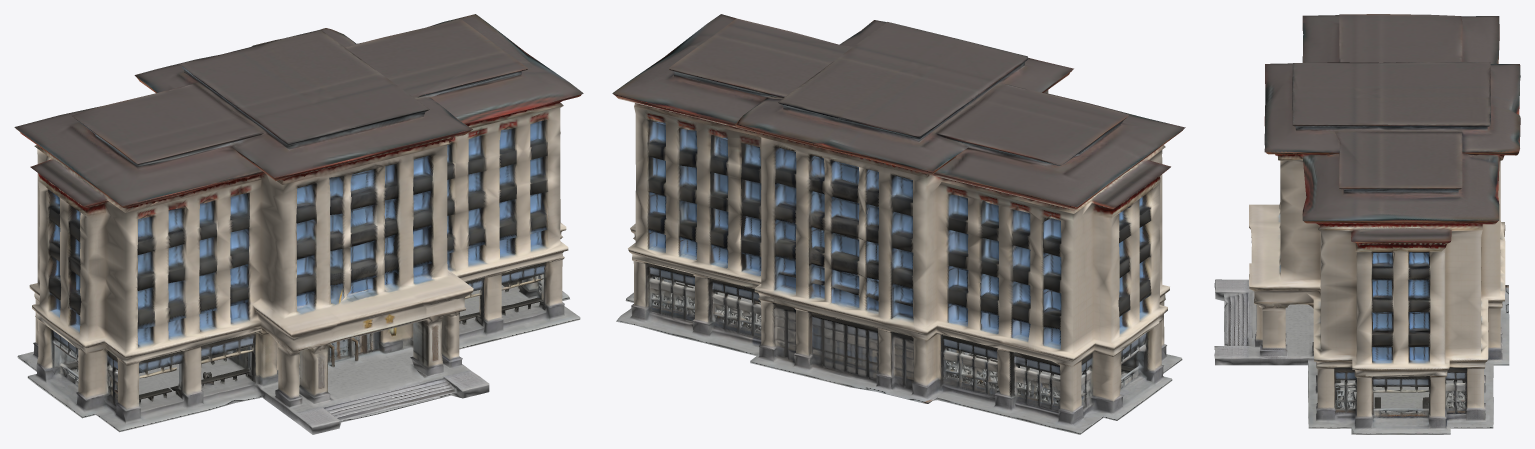
Rendered from 03-hotel-building-3d-model-52.glb.
3 views of the same model, side by side, from view 1: azimuth 30°, elevation 25°; view 2: azimuth 150°, elevation 25°; view 3: azimuth 270°, elevation 25° (orthographic). The views are drawn at different scales.
Parts seen in each view (by area): view 1: tripo_node_3815b56c-1bbd-42cd-9aab-7423459306db; view 2: tripo_node_3815b56c-1bbd-42cd-9aab-7423459306db; view 3: tripo_node_3815b56c-1bbd-42cd-9aab-7423459306db.
Boxes of the visible parts, left/top/right/bottom form: tripo_node_3815b56c-1bbd-42cd-9aab-7423459306db: left=14, top=14, right=583, bottom=434; tripo_node_3815b56c-1bbd-42cd-9aab-7423459306db: left=612, top=14, right=1185, bottom=434; tripo_node_3815b56c-1bbd-42cd-9aab-7423459306db: left=1214, top=14, right=1520, bottom=434.
Size of the model in its own units: 0.9859 by 0.4938 by 0.5878.
Materials: 1 (1 with a texture image).
